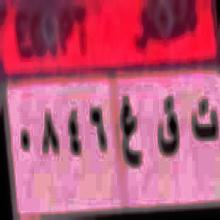0: (16, 117, 37, 166)
4: (68, 105, 84, 169)
6: (89, 102, 108, 167)
8: (40, 109, 62, 167)
ghayn: (120, 91, 143, 176)
qaaf: (154, 90, 181, 167)
taa: (191, 95, 218, 148)
